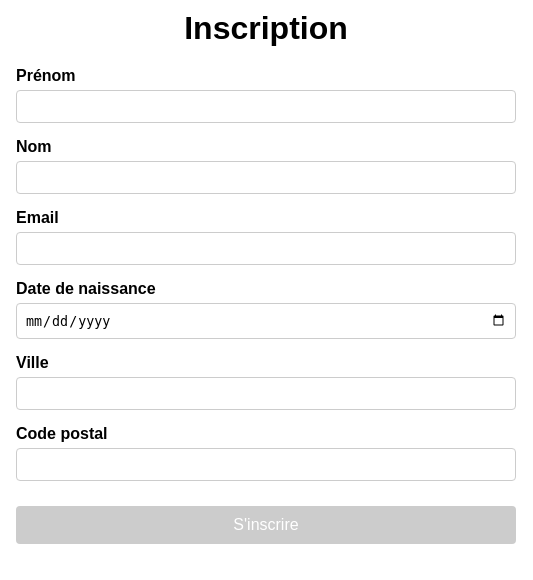
Test: Formulaire d'inscription › affiche une erreur si le code postal est invalide
This screenshot has width=533, height=580.
Type "123" into the field with test id "postalCode" at {"x": 266, "y": 465}, box [16,448,516,481]
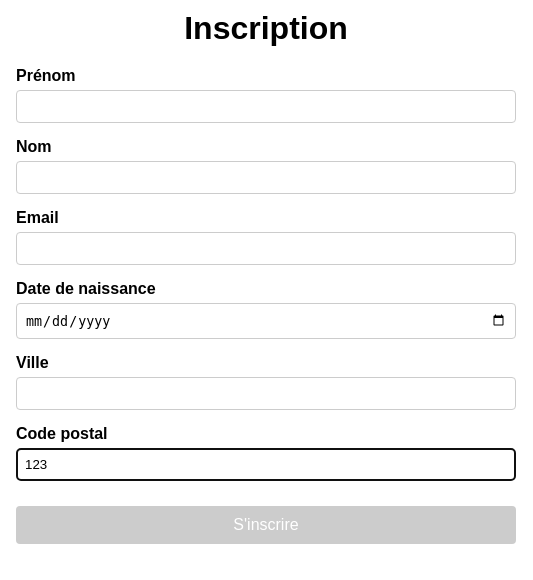
Leave the field with test id "postalCode", box [16,448,516,481]
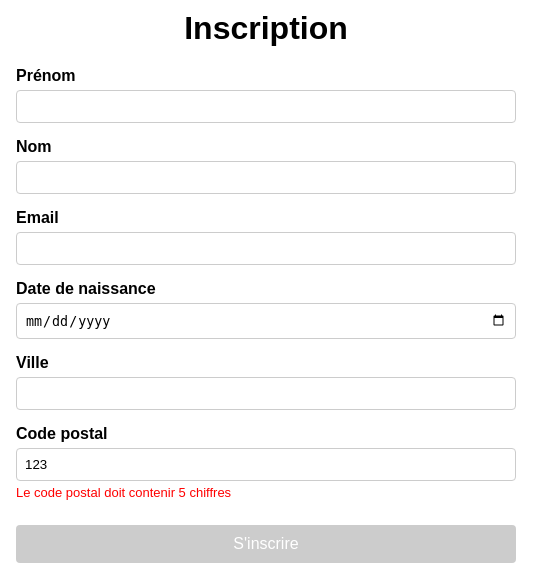
Now the text with test id "error-postalCode" reads "Le code postal doit contenir 5 chiffres", box [16,485,231,500]
